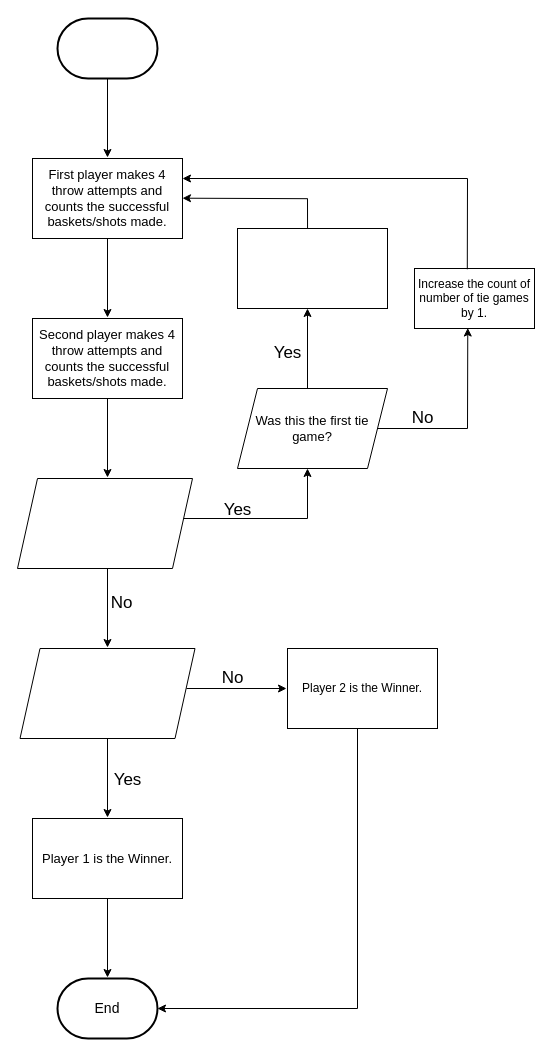
The diagram is 552 pixels wide and 1056 high, and some of its shapes have lost their labels. Each missing label, with the centre of its shape:
Did Player 1 score more baskets than Player 2?: pixel 107 693
Start: pixel 107 48
Start counting the number of tie games. With now count being equal to 1.: pixel 312 268
Was the game a tie?: pixel 104 523
